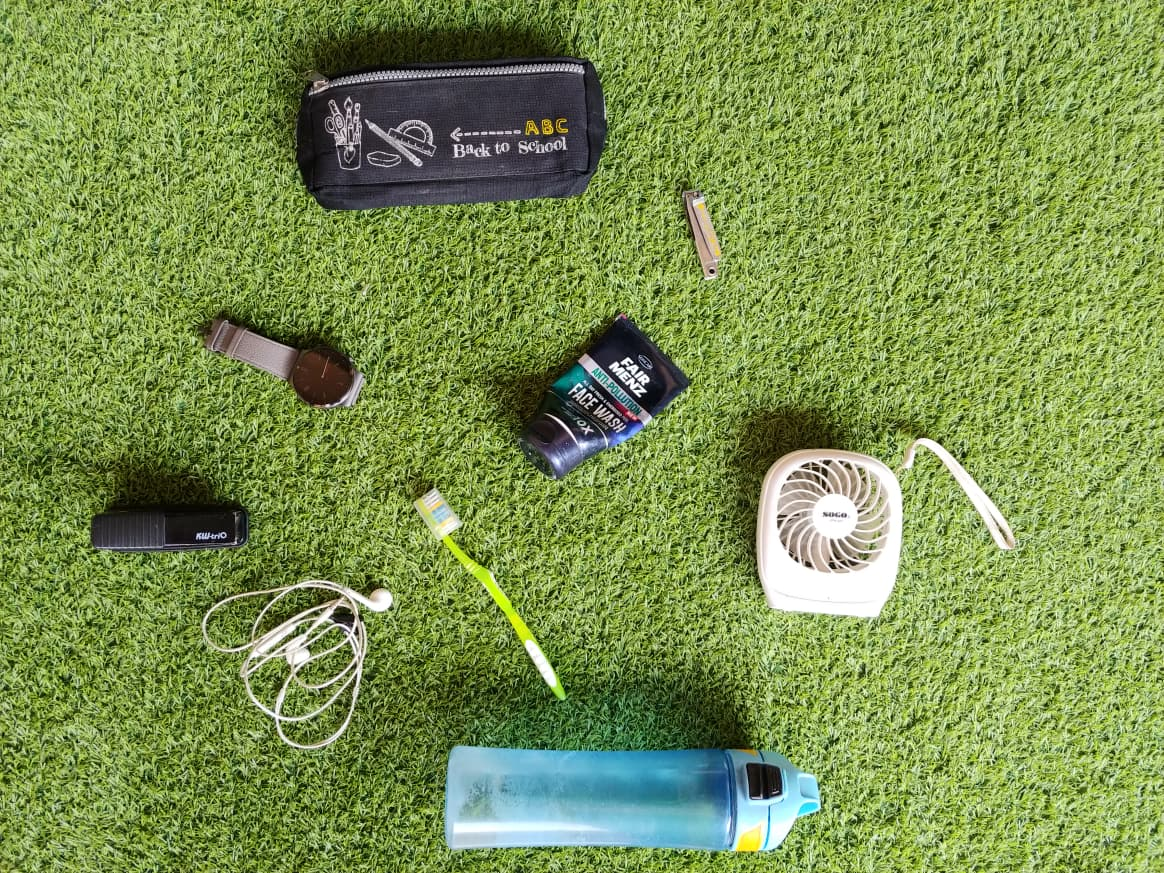Earphones: (179, 569, 405, 791)
Facewash: (487, 316, 696, 495)
Geometry box: (267, 27, 624, 220)
Nail cutter: (653, 177, 772, 310)
SOGO table fan: (746, 396, 1031, 674)
Smartwatch: (181, 286, 392, 431)
Stapler: (70, 477, 271, 583)
Toothbrush: (390, 474, 592, 709)
Water bottle: (427, 737, 834, 861)
